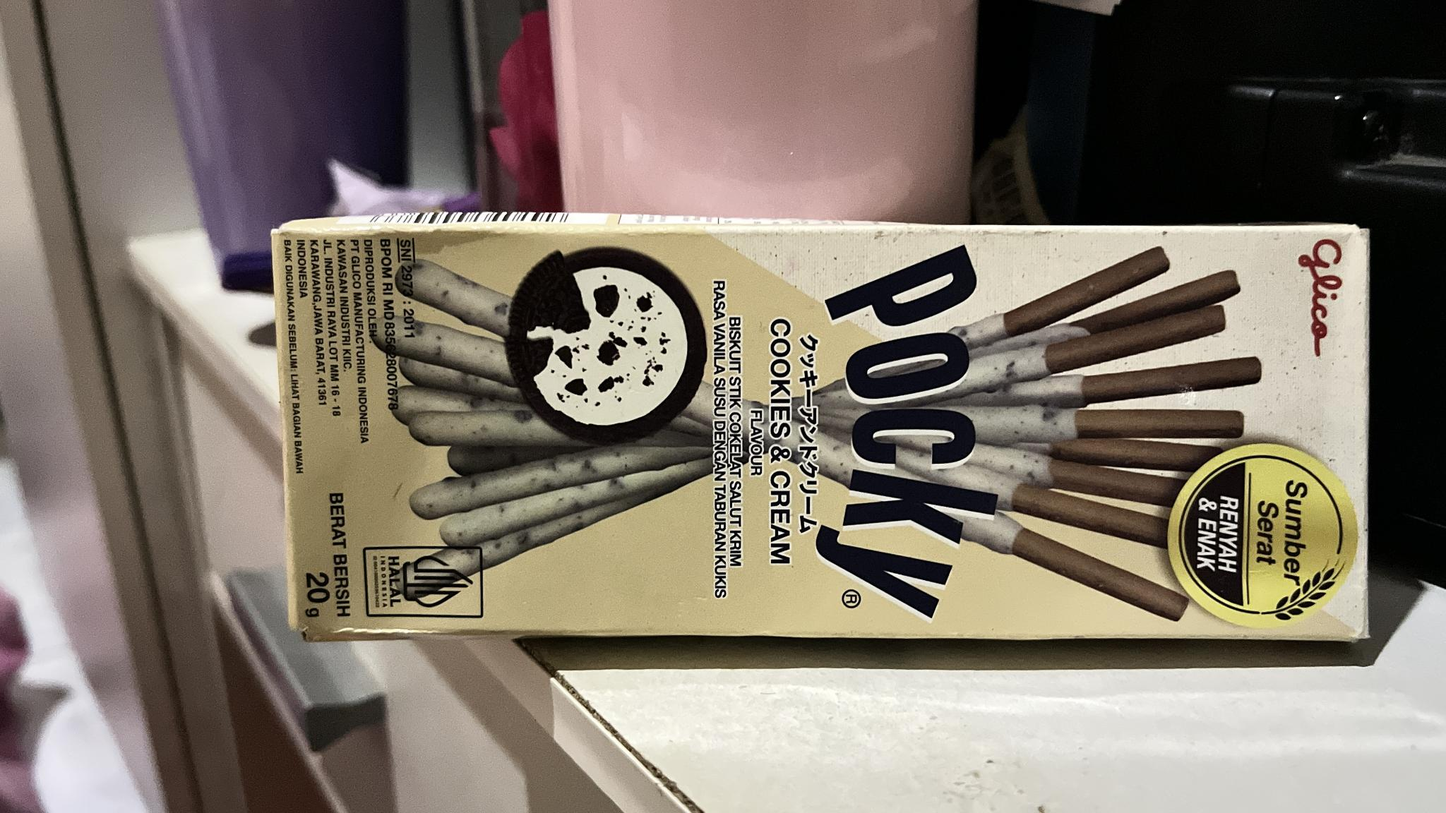Kertas: (267, 229, 1372, 643)
